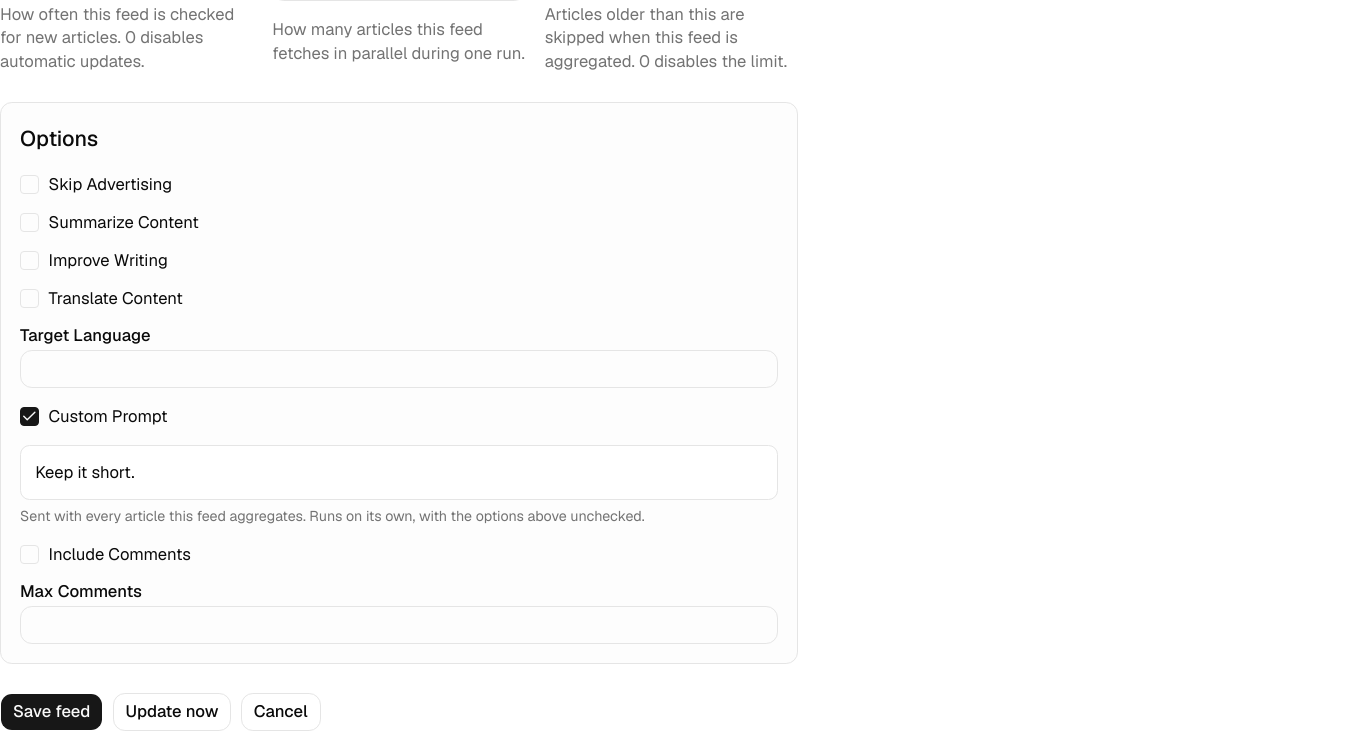
Scenario: FeedForm identifier field › previews a stored prompt and edits it through the modal
(page scrolled)
Click the button with aria-label "edit prompt": (85, 472) [20, 445, 778, 500]
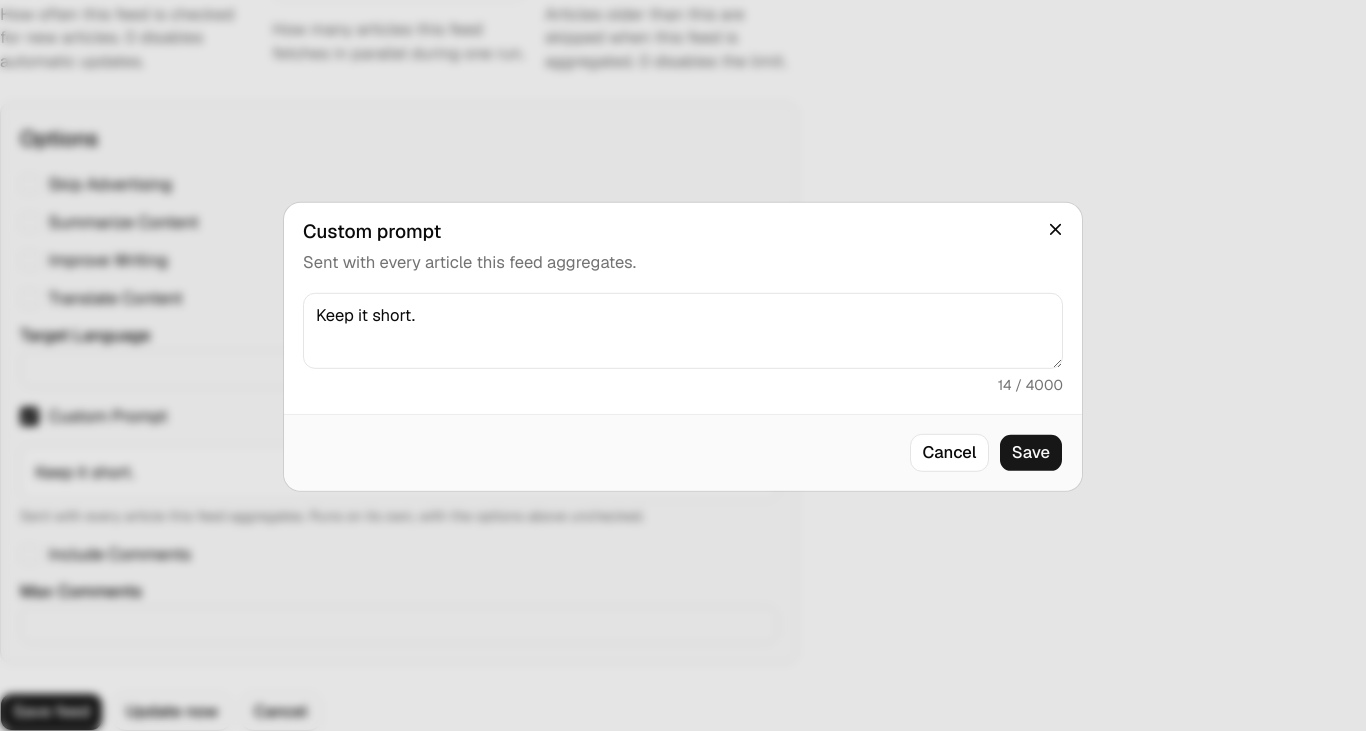
Now the text box named "Custom prompt" holds "Keep it short."
Replace the text in the text box named "Custom prompt" with "Rewrite as a limerick.": (683, 331) [303, 293, 1063, 369]
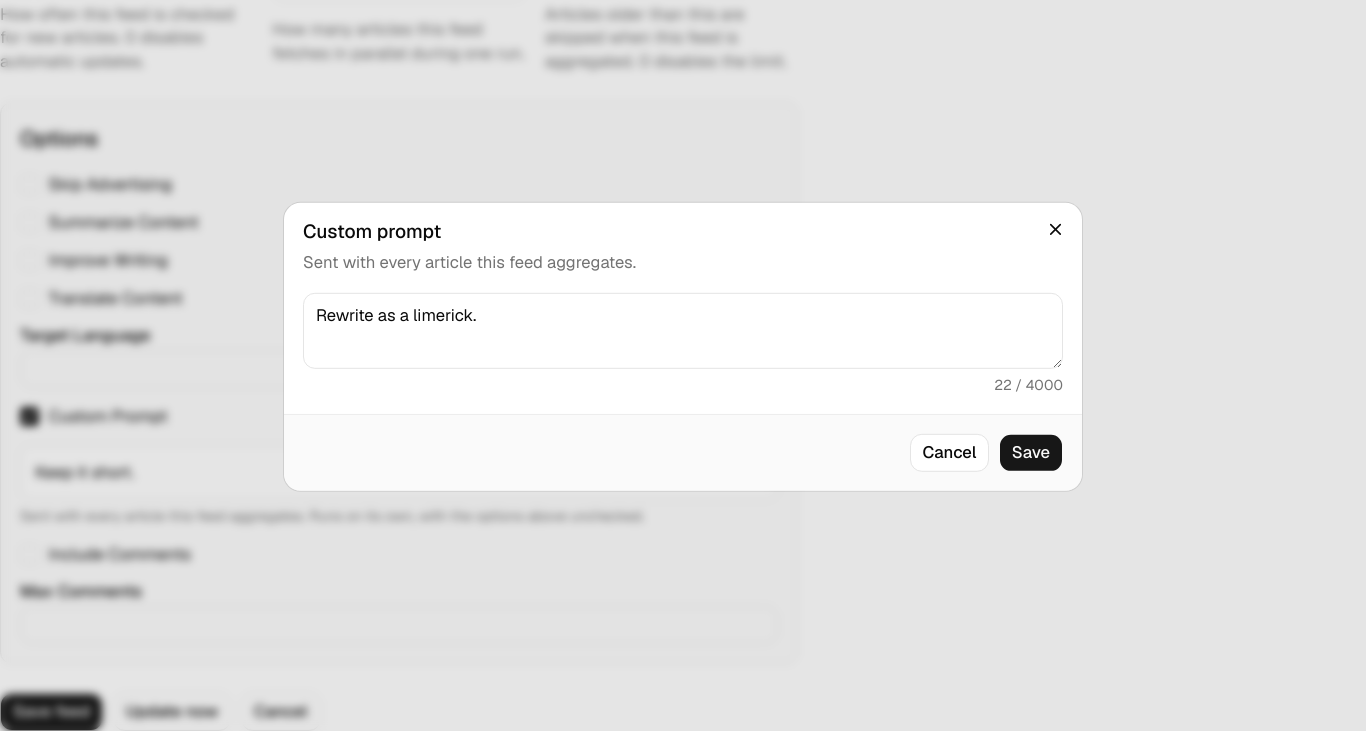
Click the button "Save": (1031, 453) [999, 434, 1063, 472]
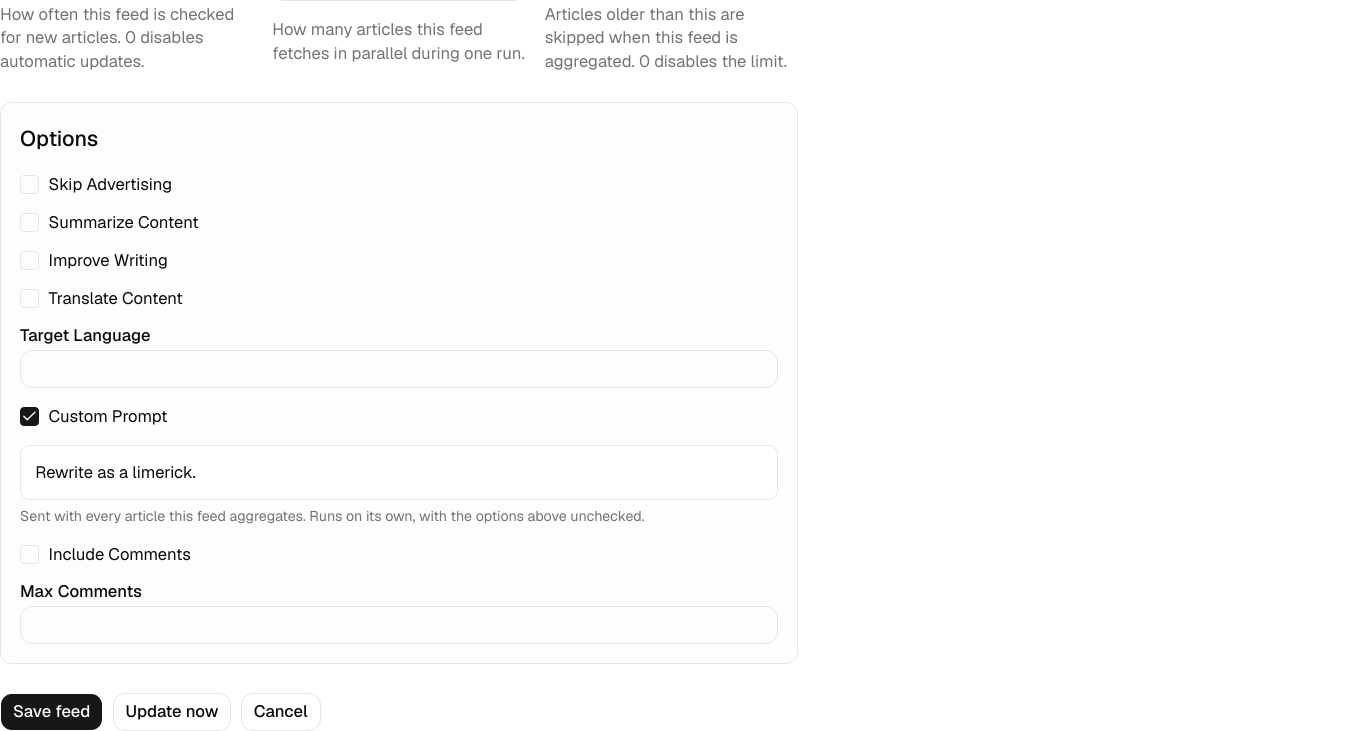
Now the button with aria-label "edit prompt" reads "Rewrite as a limerick.", box [20, 445, 778, 500]
